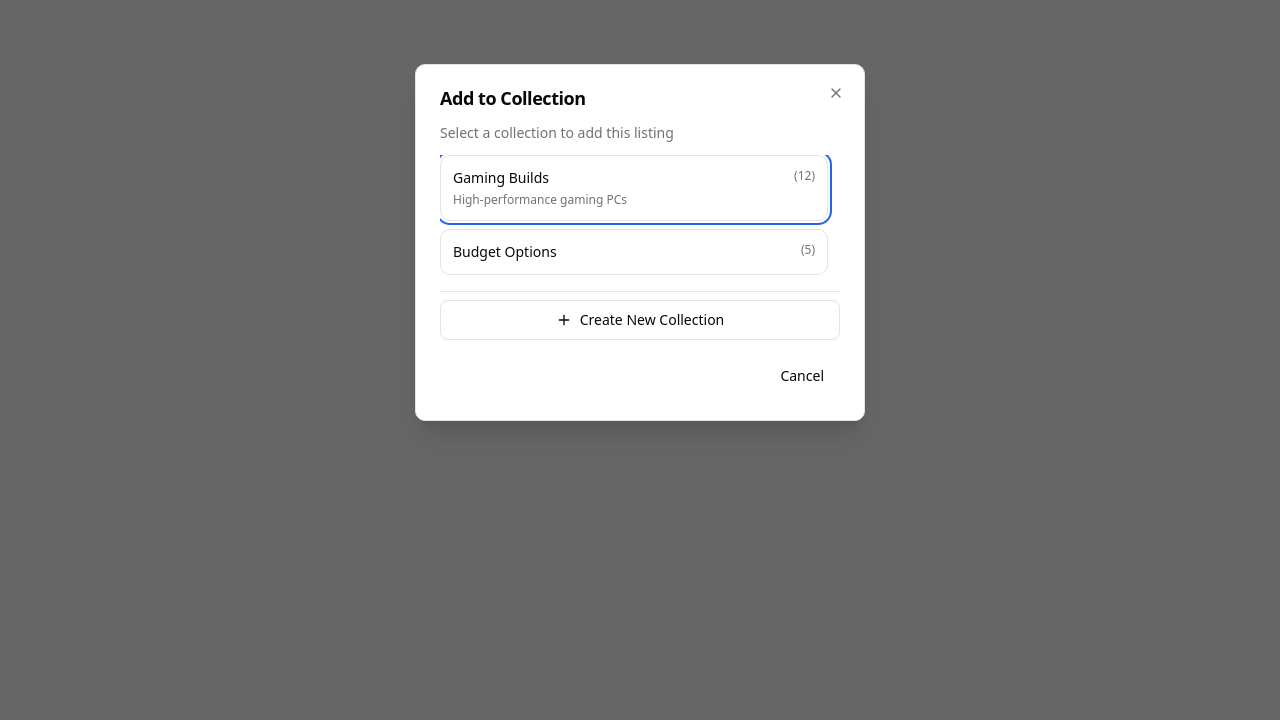
Test case: CollectionSelectorModal › Create New Collection Mode › switches to create mode when 'Create New Collection' is clicked
Click the button "Create New Collection".
click(640, 320)  # box [440,300,840,340]
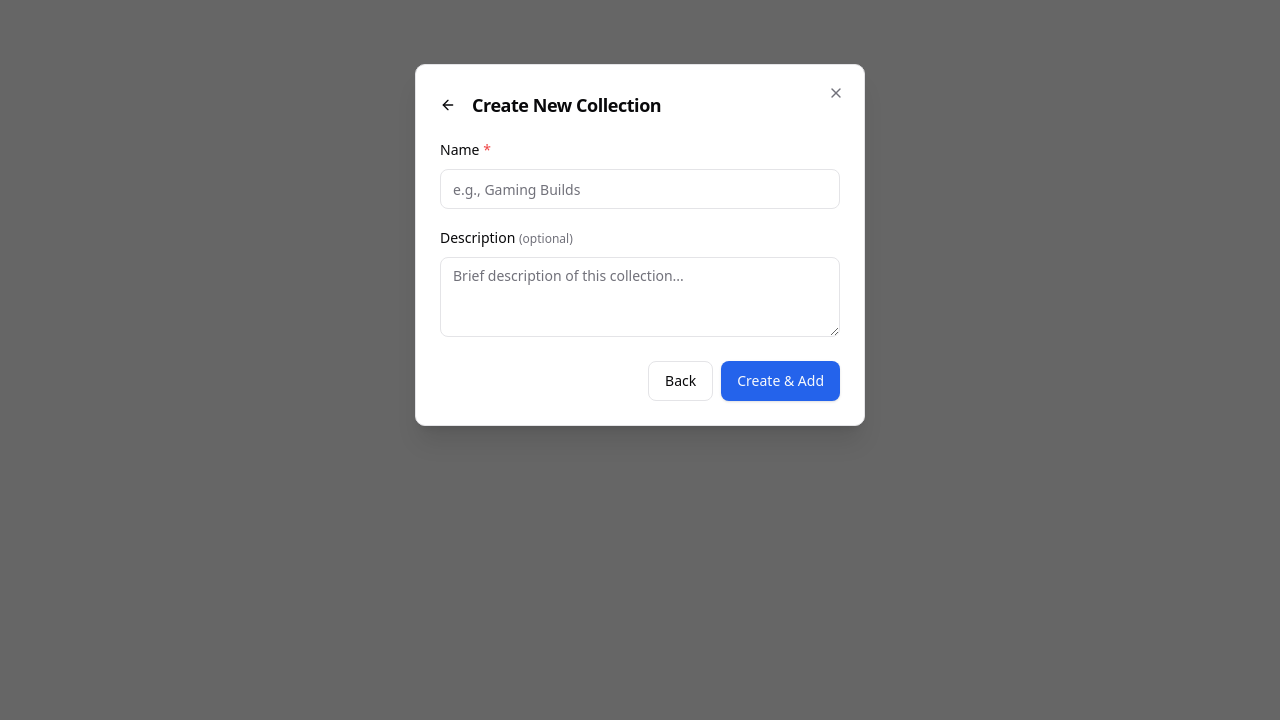
Now the heading "Create New Collection" is shown, box [432,89,661,121]
Now the field labelled "Name *" is shown, box [440,169,840,209]
Now the text box labelled "Description (optional)" is shown, box [440,257,840,337]
